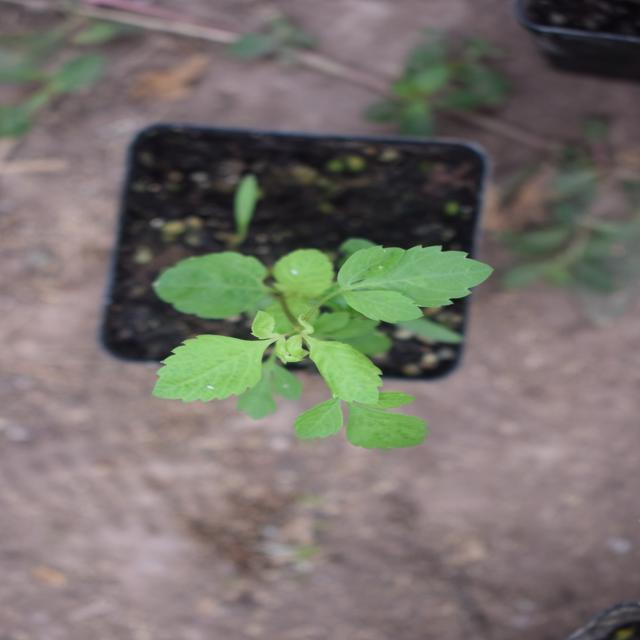Bidens pilosa: (182, 126, 415, 514)
